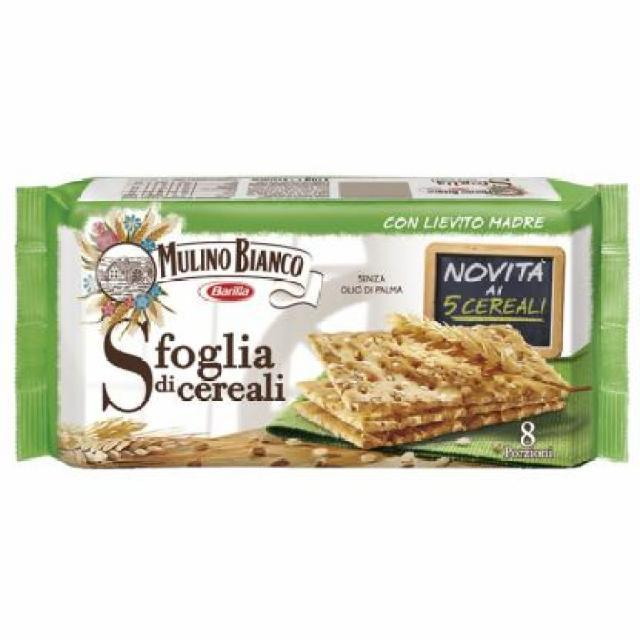Cracker: (7, 174, 635, 483)
